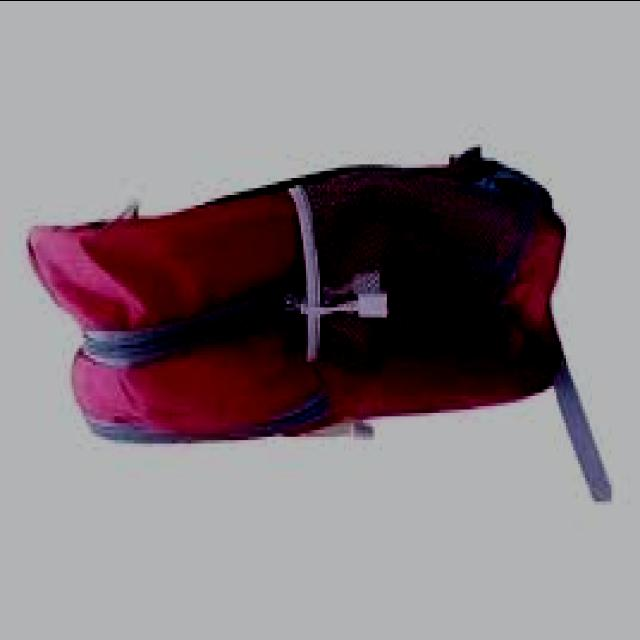backpack: (25, 148, 567, 451)
